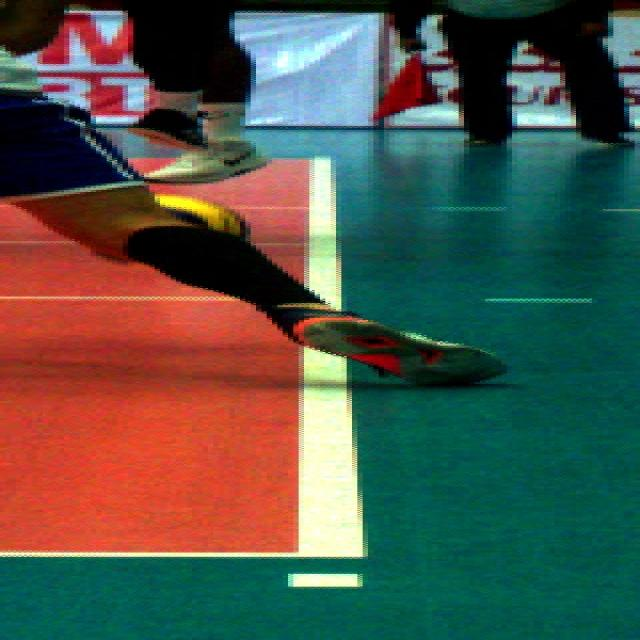Volleyball: (155, 191, 252, 244)
